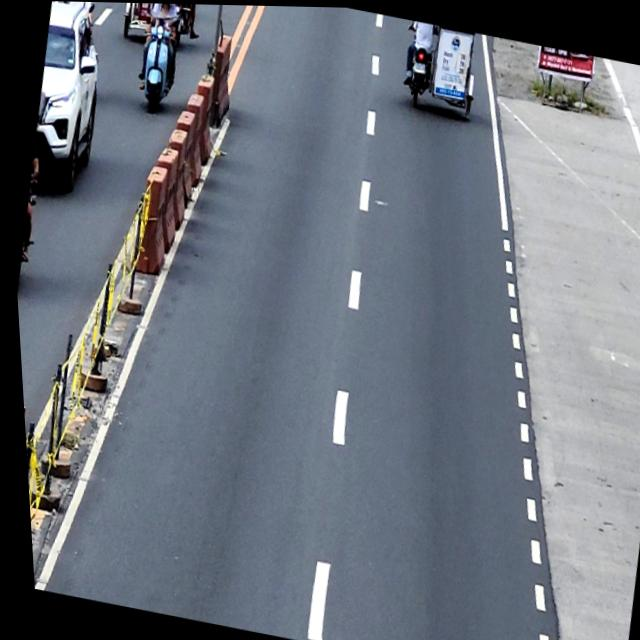Car: (19, 0, 116, 197)
License-Plate: (410, 59, 425, 71)
Motorcycle: (130, 21, 183, 115)
Tricycle: (394, 17, 483, 119), (119, 2, 195, 48)
